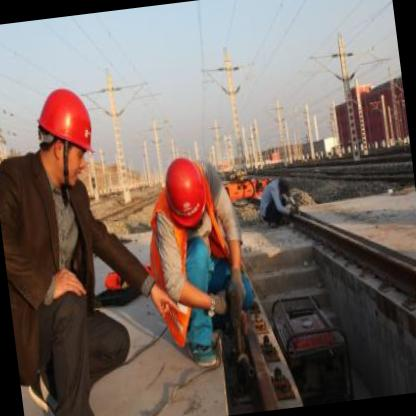helmet: (30, 80, 105, 192), (157, 150, 219, 246)
